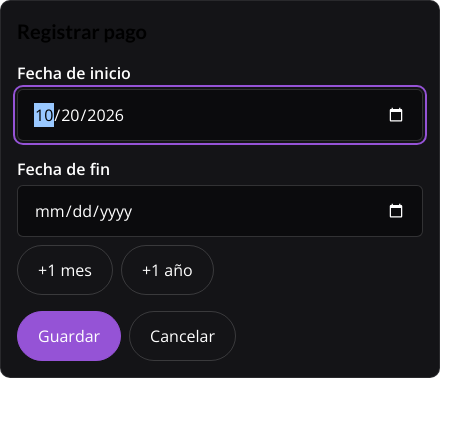
Test: PeriodForm › recording a payment › the shortcuts for the end › does nothing but ask for the start when the start is not a date
Clear the date field labelled "Fecha de inicio" at {"x": 220, "y": 115}, box [17,89,423,141]
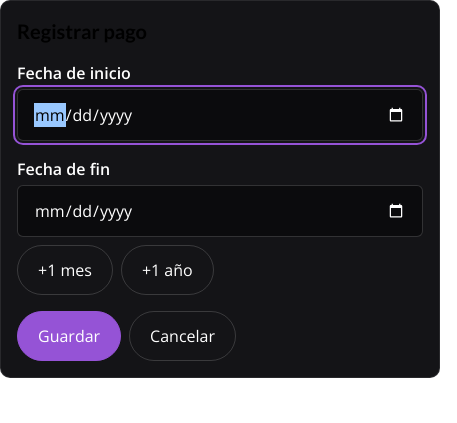
Click the button "+1 mes".
click(65, 270)  # box [17,245,113,295]
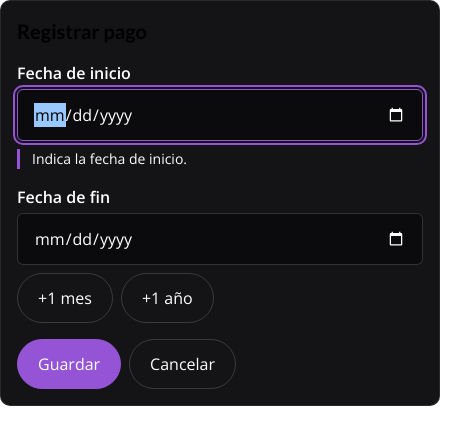
expect the date field labelled "Fecha de fin" is empty: met, box [17,213,423,265]
expect the text "Indica la fecha de inicio." is shown: met, box [17,149,423,169]
